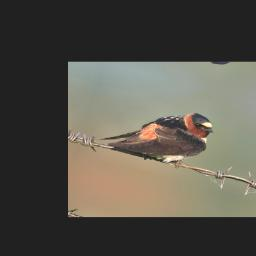Swallow: (95, 90, 219, 175)
